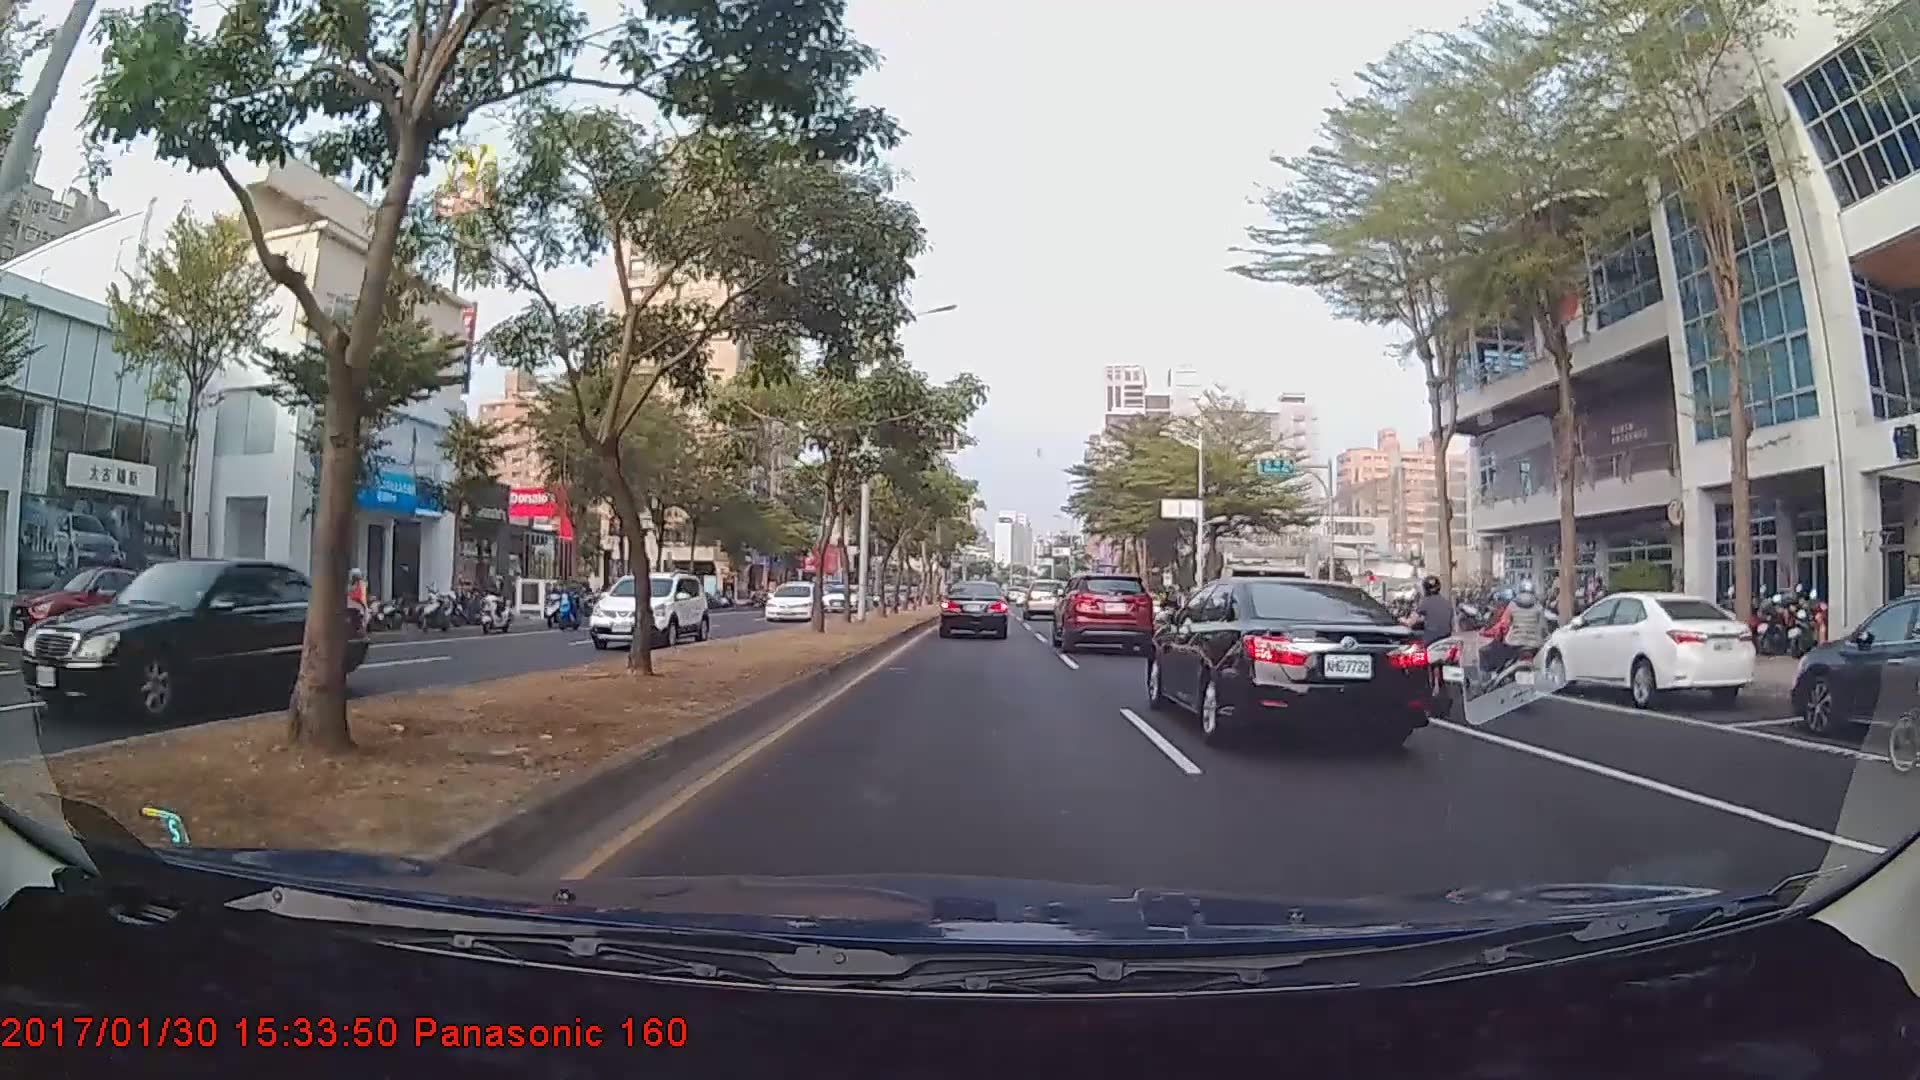rider: (1393, 572, 1480, 724), (1468, 578, 1552, 711)
vehicle: (19, 555, 368, 726), (1151, 565, 1422, 754), (1559, 586, 1757, 707), (1789, 590, 1920, 738), (8, 564, 174, 648), (585, 572, 711, 651), (1057, 574, 1155, 652), (938, 579, 1010, 640), (762, 582, 823, 622), (1025, 579, 1057, 619), (821, 583, 865, 612)
